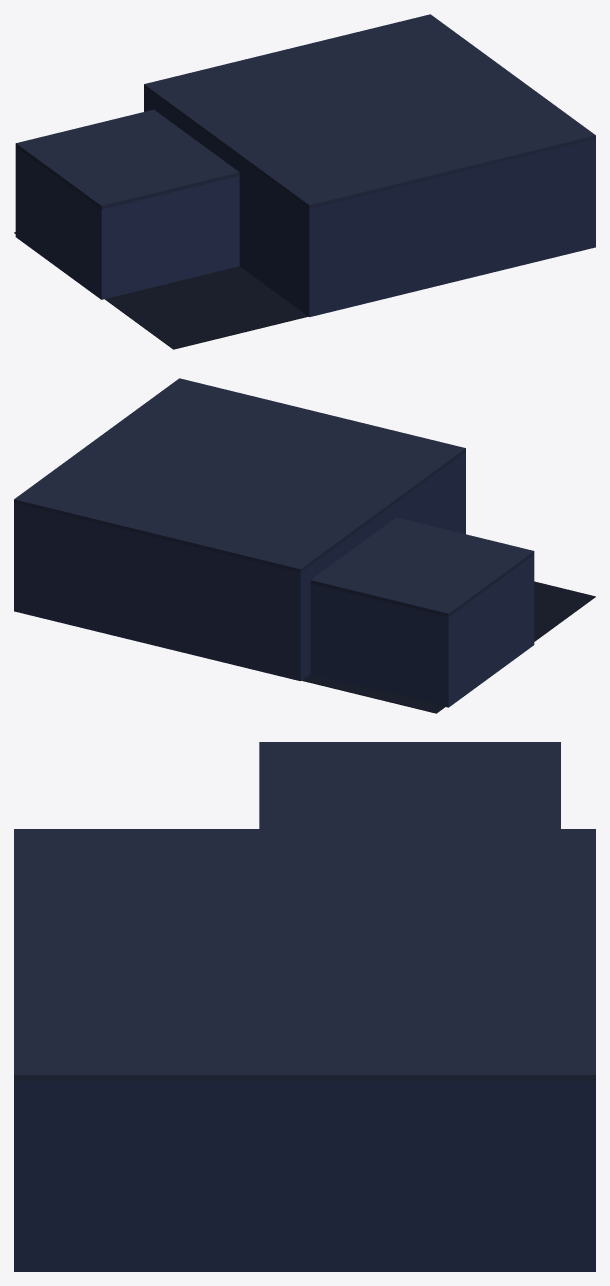
File: hq-room.glb
3 views of the same model, one above another, from view 1: azimuth 30°, elevation 25°; view 2: azimuth 150°, elevation 25°; view 3: azimuth 270°, elevation 25° (orthographic). The views are drawn at different scales.
Parts seen in each view (by area): view 1: Room, Floor; view 2: Room, Floor; view 3: Room.
Boxes of the visible parts, x1,y1,x2,y2 form: Room: (15,14,595,317); Floor: (14,232,308,349); Room: (14,378,534,707); Floor: (301,581,595,713); Room: (14,742,595,1271).
Size of the model in its own units: 24.6 by 6.32 by 16.6.
